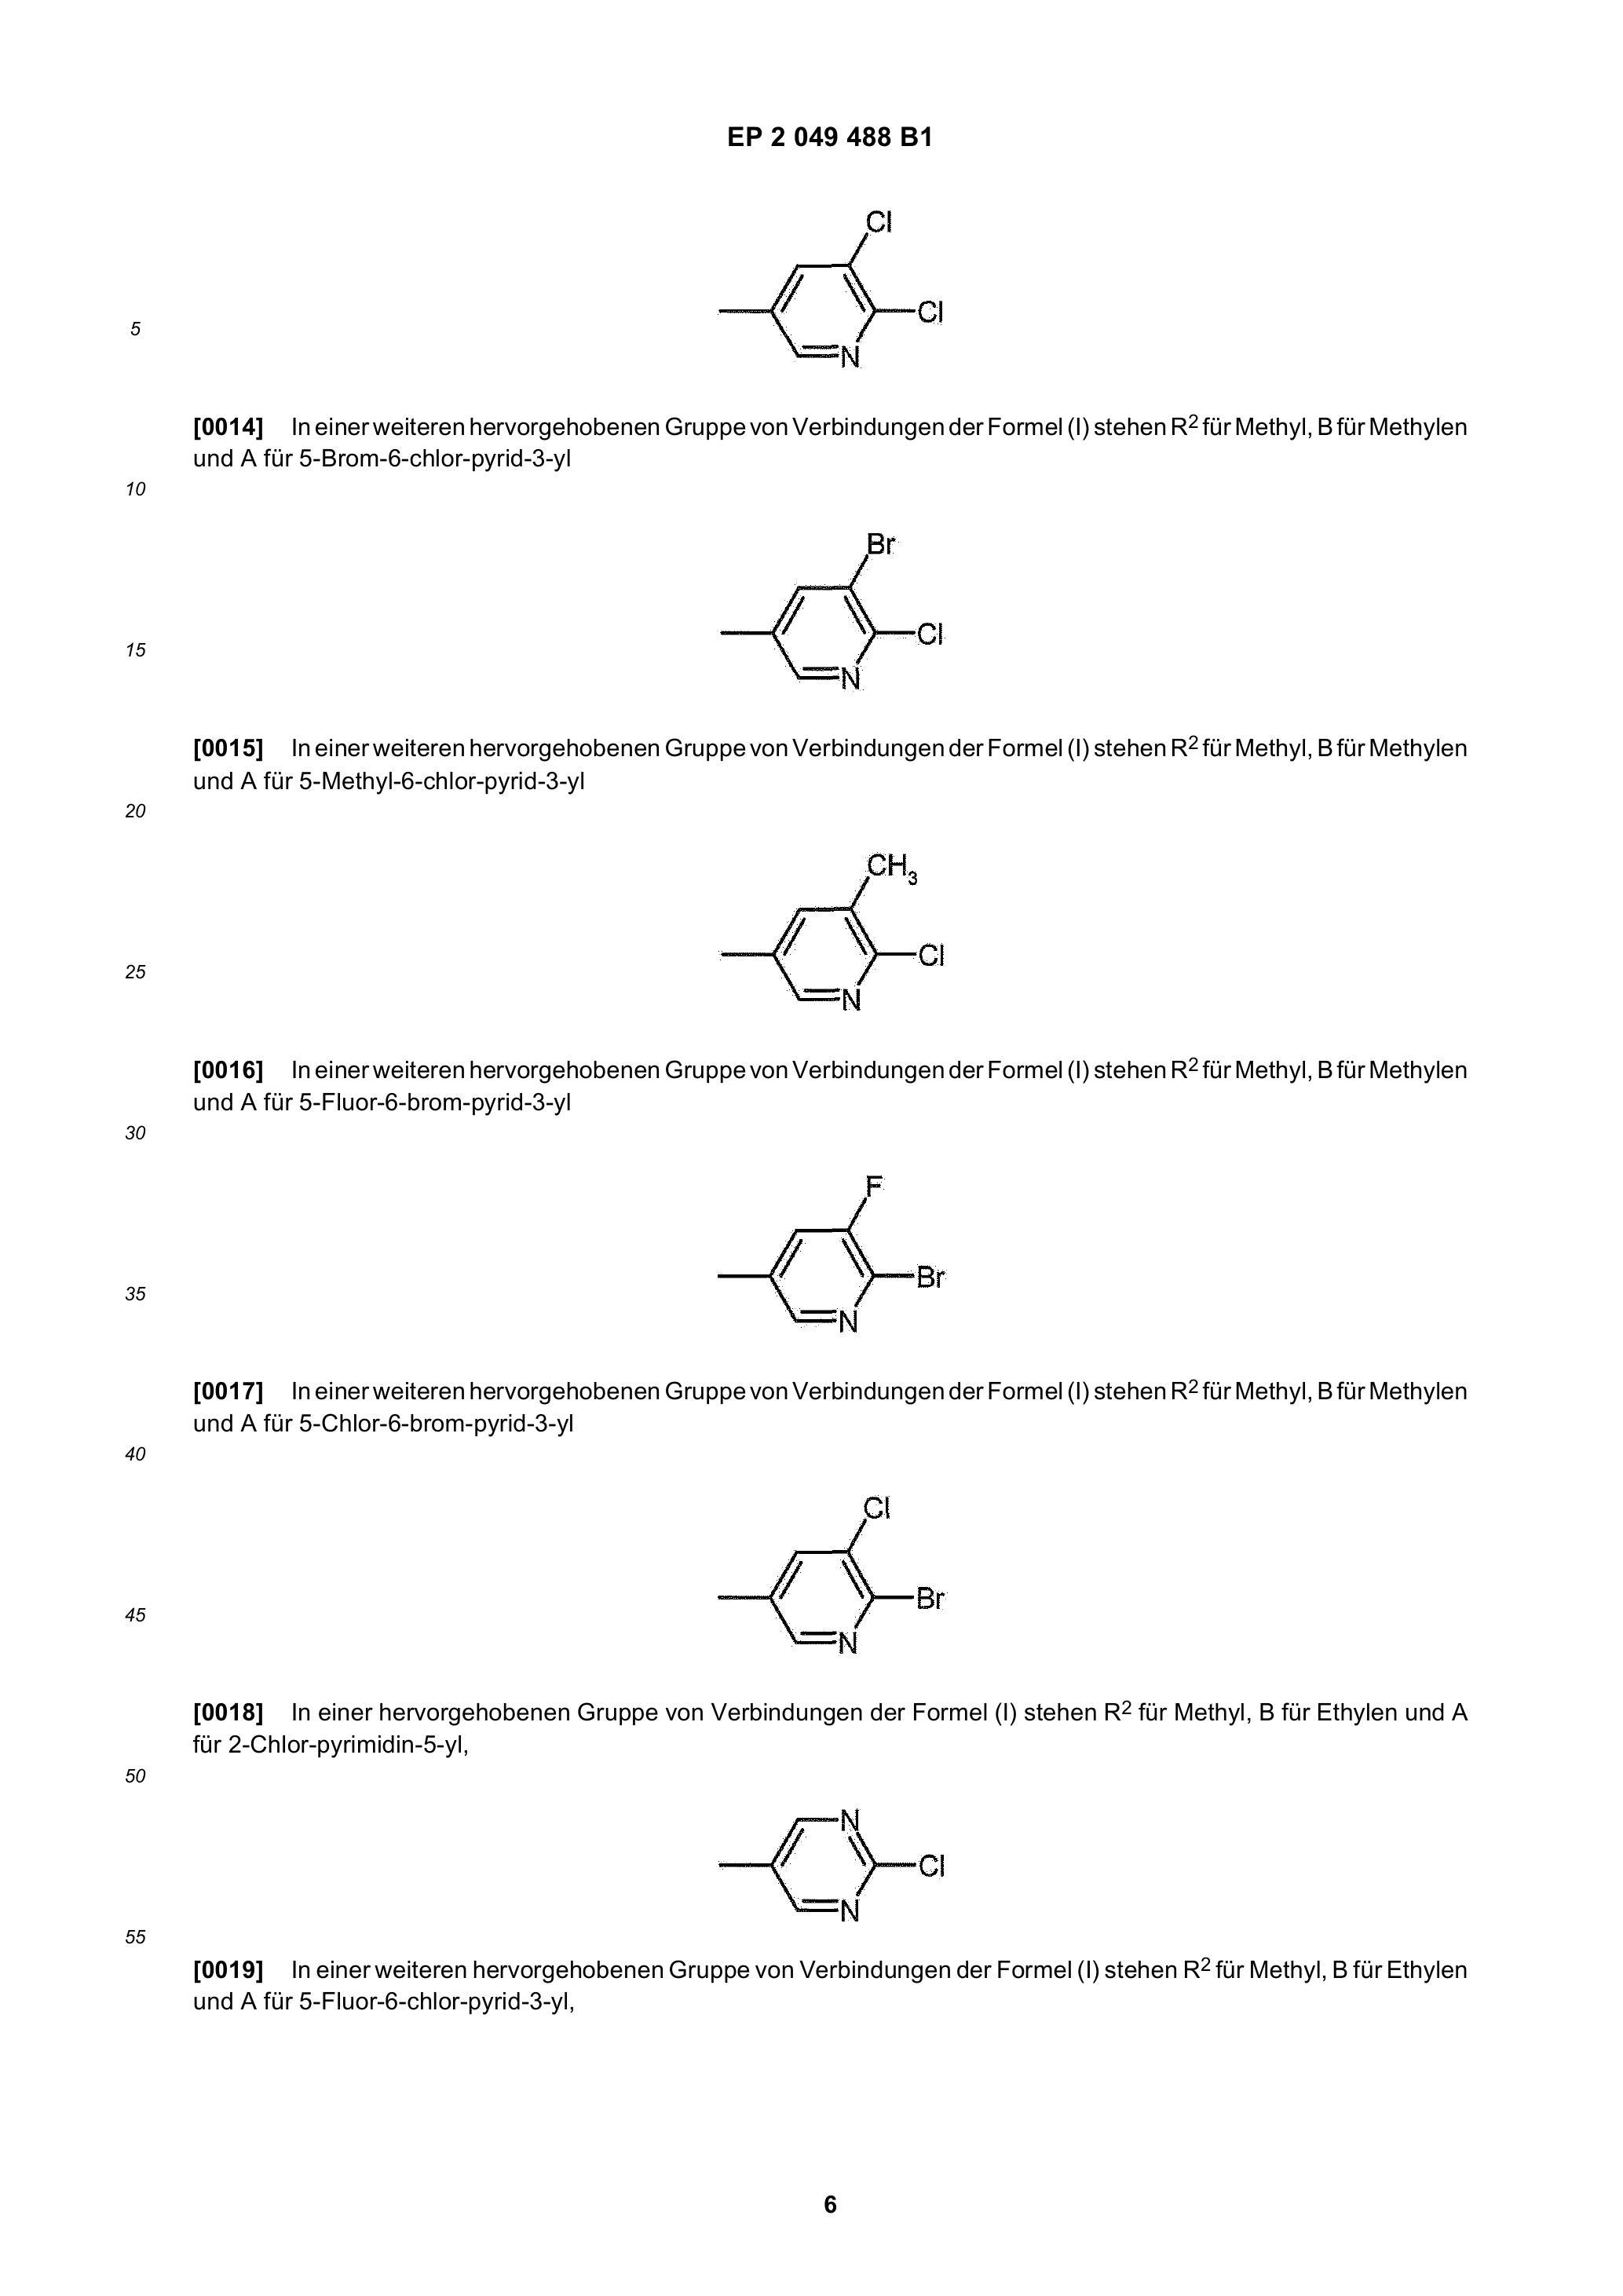intermediates: (669, 518, 978, 710), (720, 1456, 964, 1674), (711, 184, 956, 385), (690, 1758, 954, 1941), (717, 1152, 950, 1347), (722, 848, 980, 1022)
